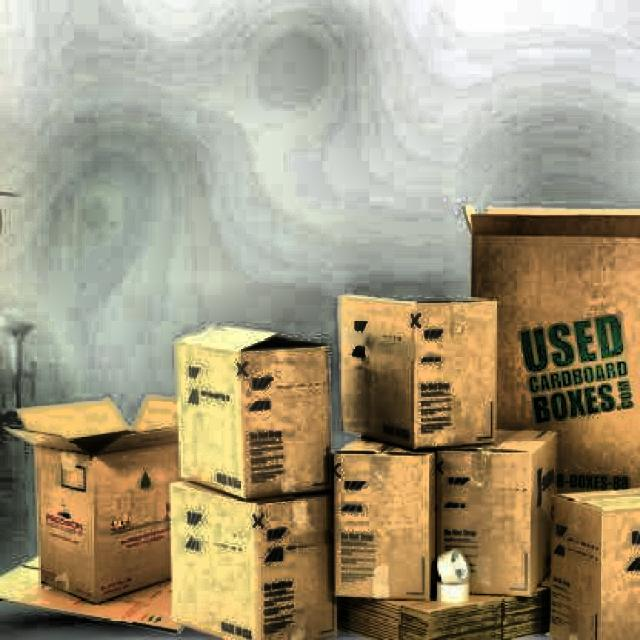Cardbox: (326, 231, 634, 631), (0, 338, 360, 640), (337, 280, 505, 453)
